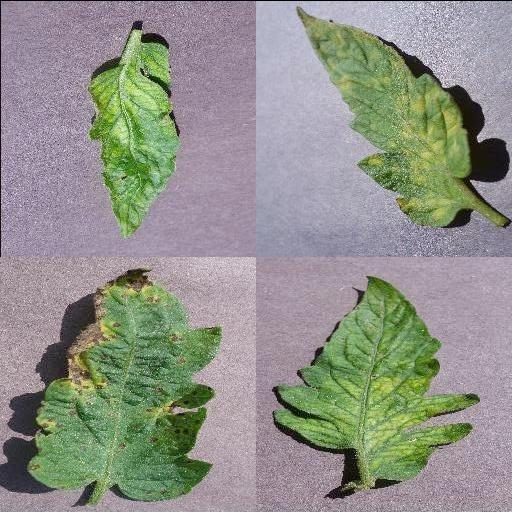Leaf Mold: (296, 6, 472, 224)
Mosaic Virus: (274, 271, 482, 481), (85, 41, 181, 241)
Septoria: (27, 269, 223, 501)
